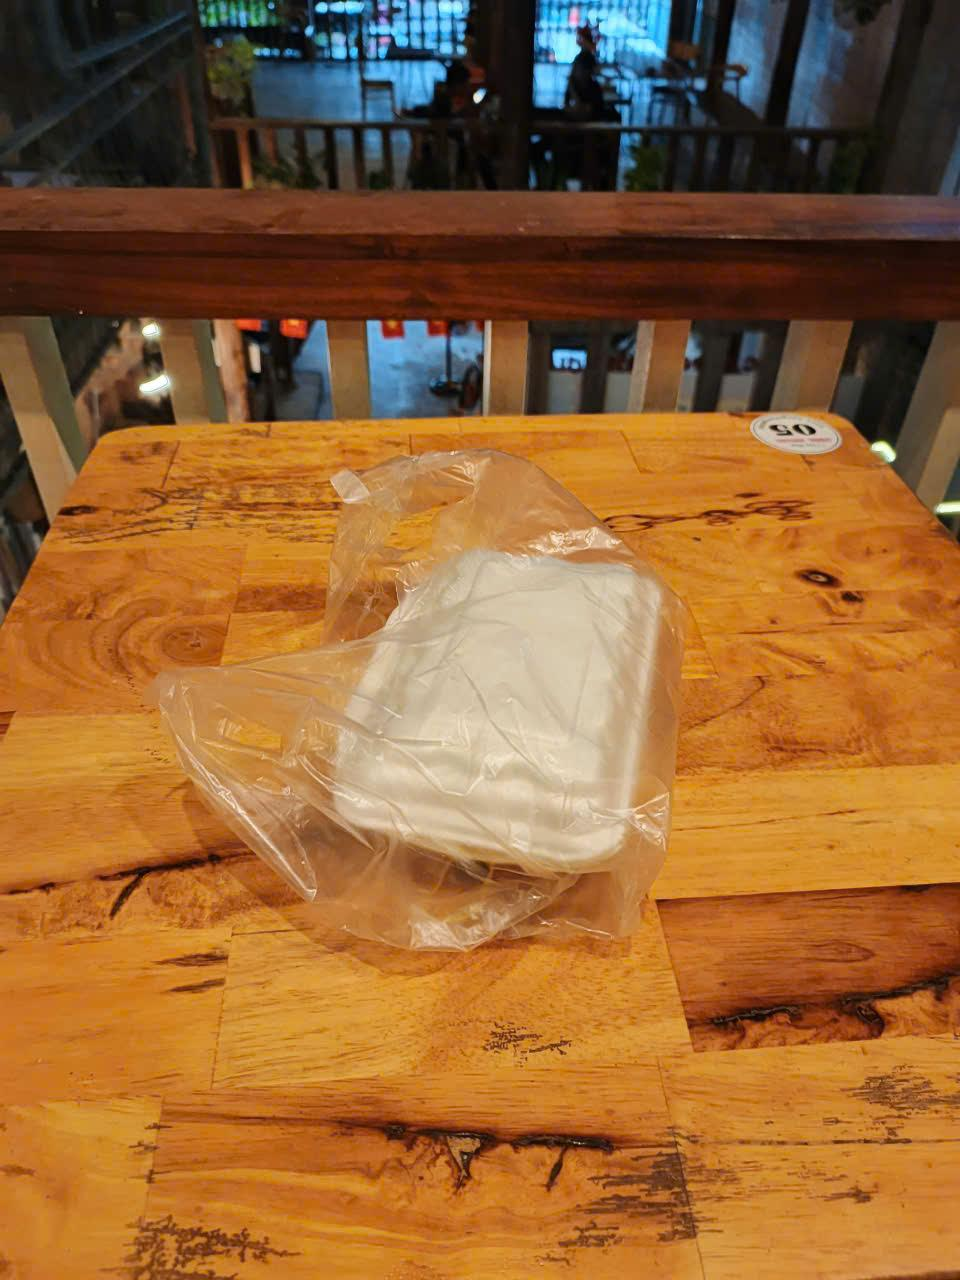Con lai: (160, 443, 684, 956)
